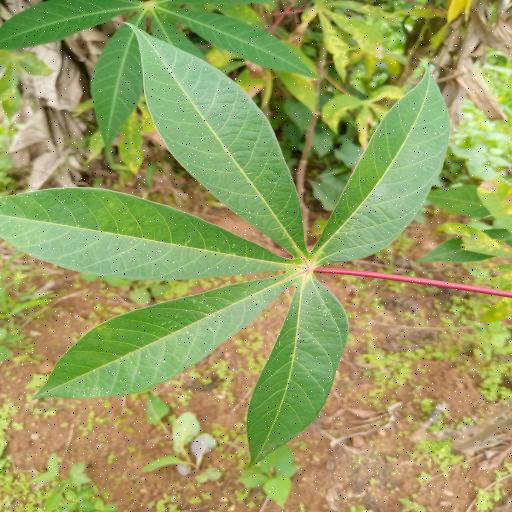Cassava_Healthy: (5, 22, 451, 468)
